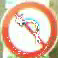Don't turn left: (5, 5, 57, 54)
